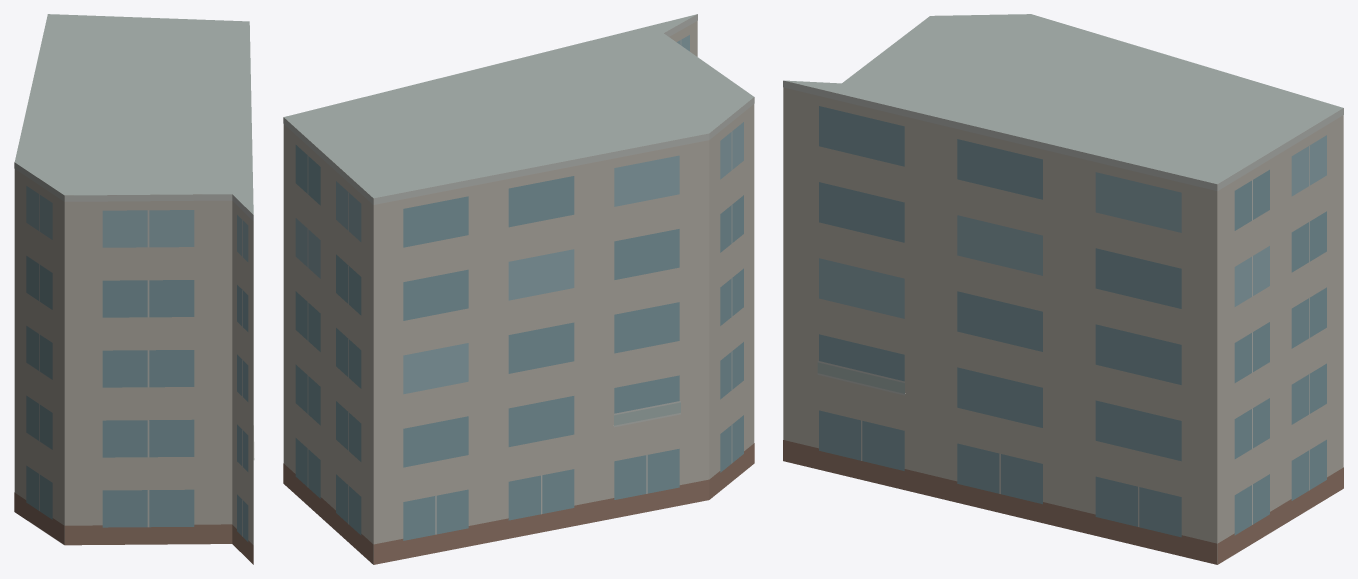
The model's file is survey-upis-32966289.glb.
3 renders of one model, left to right at view 1: azimuth 30°, elevation 25°; view 2: azimuth 150°, elevation 25°; view 3: azimuth 270°, elevation 25°, orthographic. The views are drawn at different scales.
Parts seen in each view (by area): view 1: survey-upis-32966289.tmp; view 2: survey-upis-32966289.tmp; view 3: survey-upis-32966289.tmp.
Part boxes in pixels (x1,y1,x2,y2): survey-upis-32966289.tmp: (14,14,254,564); survey-upis-32966289.tmp: (283,14,754,564); survey-upis-32966289.tmp: (783,14,1343,564).
Bounding box in the file's own units: 12.87 × 13.4 × 17.9.
